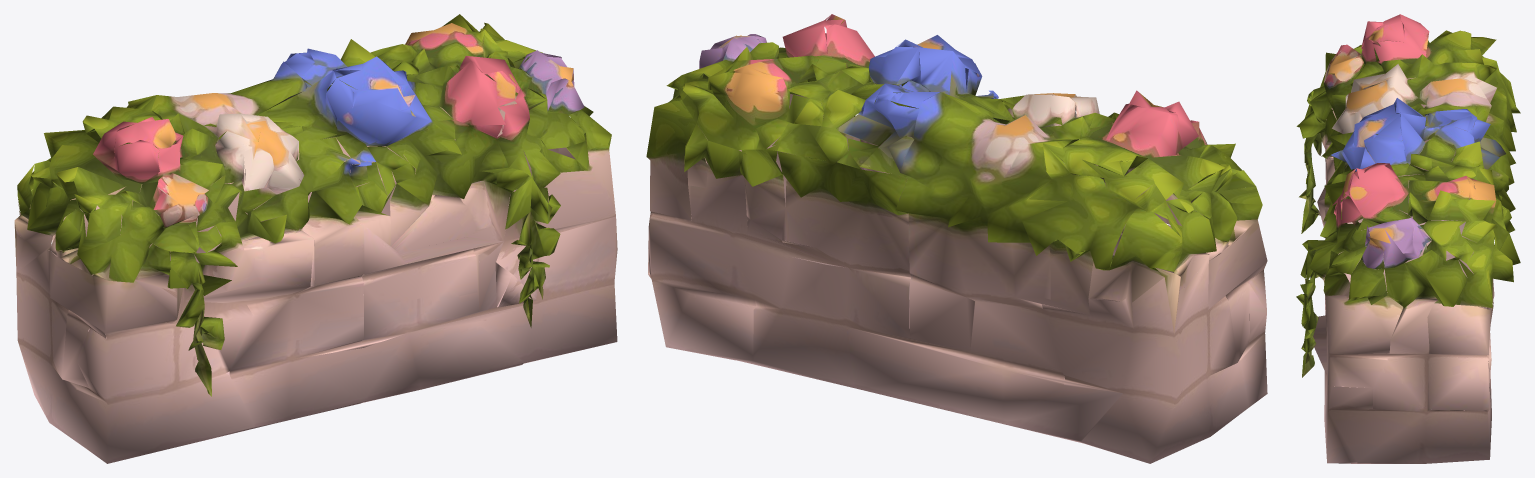
File: M-13_09_planter.glb
3 views of the same model, side by side, from view 1: azimuth 30°, elevation 25°; view 2: azimuth 150°, elevation 25°; view 3: azimuth 270°, elevation 25° (orthographic). The views are drawn at different scales.
Parts seen in each view (by area): view 1: canal_planter; view 2: canal_planter; view 3: canal_planter.
Boxes of the visible parts, x1,y1,x2,y2 form: canal_planter: [14, 14, 617, 463]; canal_planter: [646, 14, 1267, 463]; canal_planter: [1296, 14, 1520, 463].
Size of the model in its own units: 4.02 by 2.17 by 1.66.
Materials: 1 (1 with a texture image).
